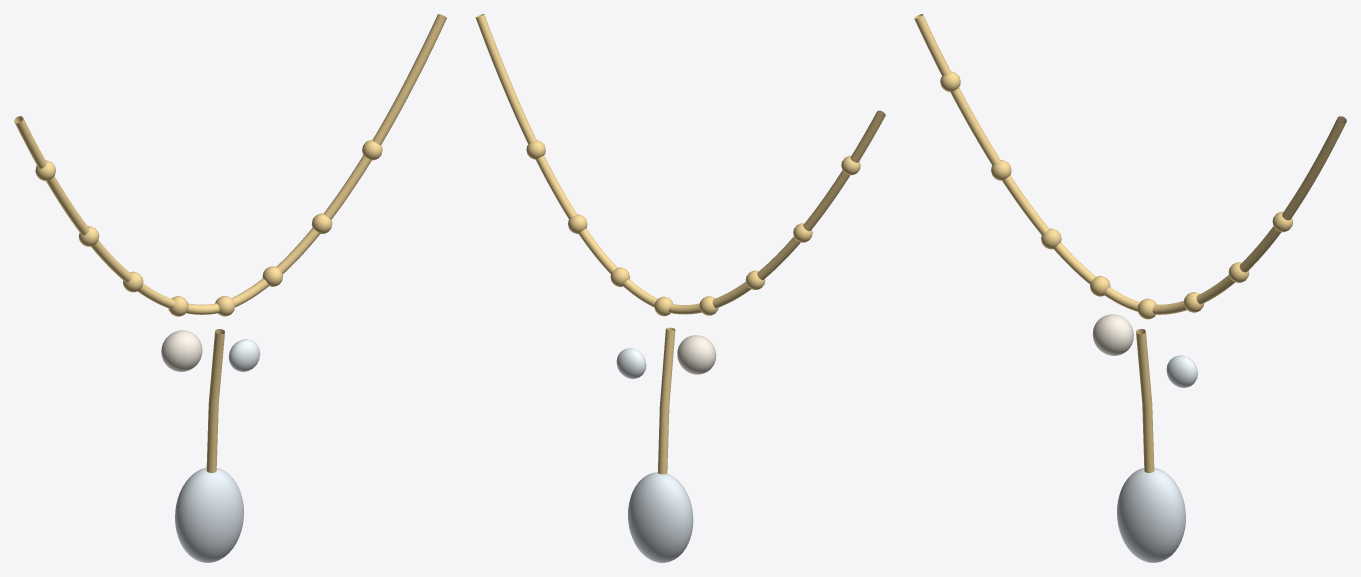
File: lariat-necklace.v3.safe.glb
The picture shows the model from 3 angles, left to right: view 1: azimuth 30°, elevation 25°; view 2: azimuth 150°, elevation 25°; view 3: azimuth 330°, elevation 25°; orthographic projection. The views are drawn at different scales.
Parts seen in each view (by area): view 1: lariat_continuous_chain, lariat_moonstone, lariat_drop_chain, lariat_top_pearl, lariat_side_diamond; view 2: lariat_continuous_chain, lariat_moonstone, lariat_drop_chain, lariat_top_pearl, lariat_side_diamond; view 3: lariat_continuous_chain, lariat_moonstone, lariat_drop_chain, lariat_top_pearl, lariat_side_diamond.
Boxes of the visible parts, x1=… form: lariat_continuous_chain: x1=14, y1=14, x2=446, y2=314; lariat_moonstone: x1=175, y1=467, x2=243, y2=562; lariat_drop_chain: x1=206, y1=329, x2=224, y2=472; lariat_top_pearl: x1=161, y1=330, x2=202, y2=371; lariat_side_diamond: x1=228, y1=339, x2=260, y2=371; lariat_continuous_chain: x1=475, y1=14, x2=885, y2=314; lariat_moonstone: x1=628, y1=472, x2=693, y2=562; lariat_drop_chain: x1=658, y1=327, x2=675, y2=474; lariat_top_pearl: x1=677, y1=335, x2=716, y2=374; lariat_side_diamond: x1=616, y1=348, x2=646, y2=378; lariat_continuous_chain: x1=914, y1=14, x2=1346, y2=314; lariat_moonstone: x1=1117, y1=467, x2=1185, y2=562; lariat_drop_chain: x1=1136, y1=329, x2=1154, y2=472; lariat_top_pearl: x1=1092, y1=314, x2=1133, y2=355; lariat_side_diamond: x1=1166, y1=355, x2=1197, y2=387.
Size of the model in its own units: 1.18 by 1.34 by 0.1809.
